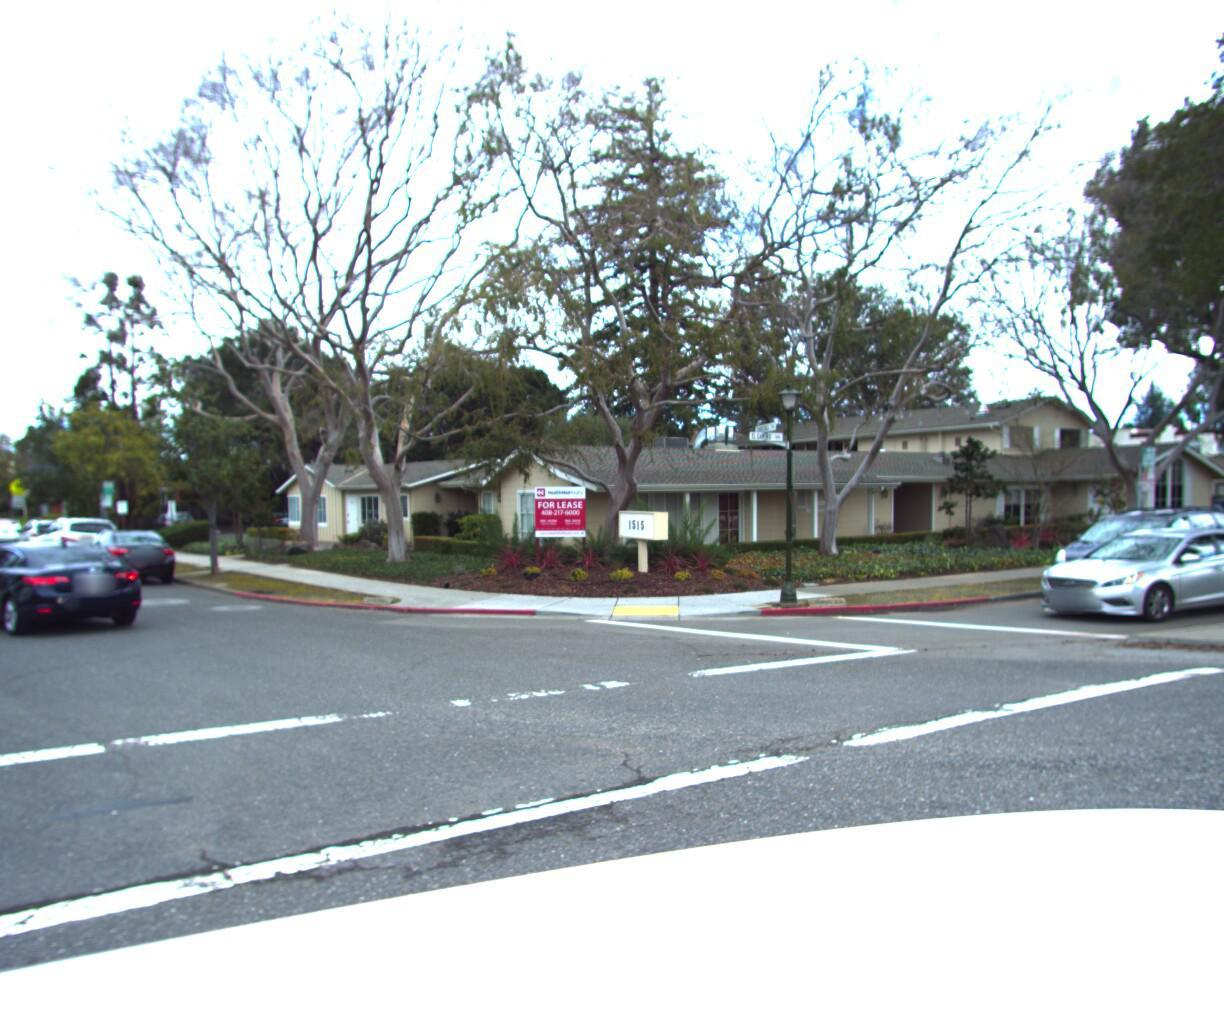car: (1022, 514, 1224, 627), (1035, 494, 1224, 603), (0, 518, 149, 636), (69, 515, 197, 581), (30, 504, 144, 566), (12, 507, 95, 552), (1197, 514, 1224, 578), (0, 509, 36, 539)
